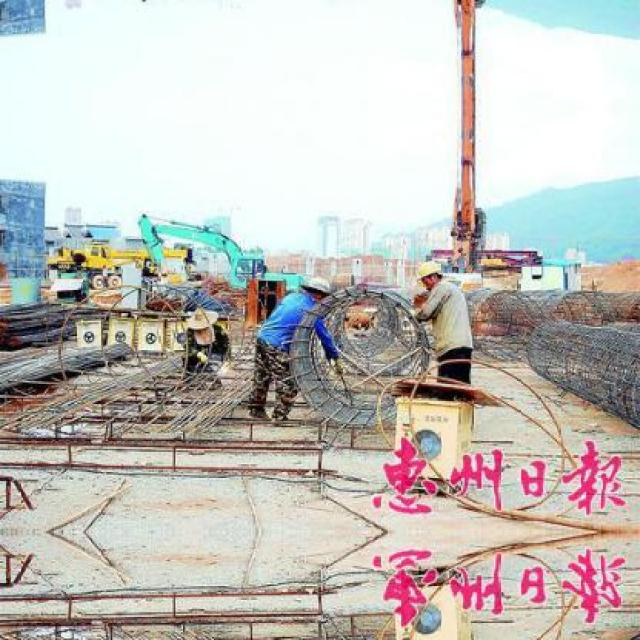helmet: (415, 257, 443, 294)
